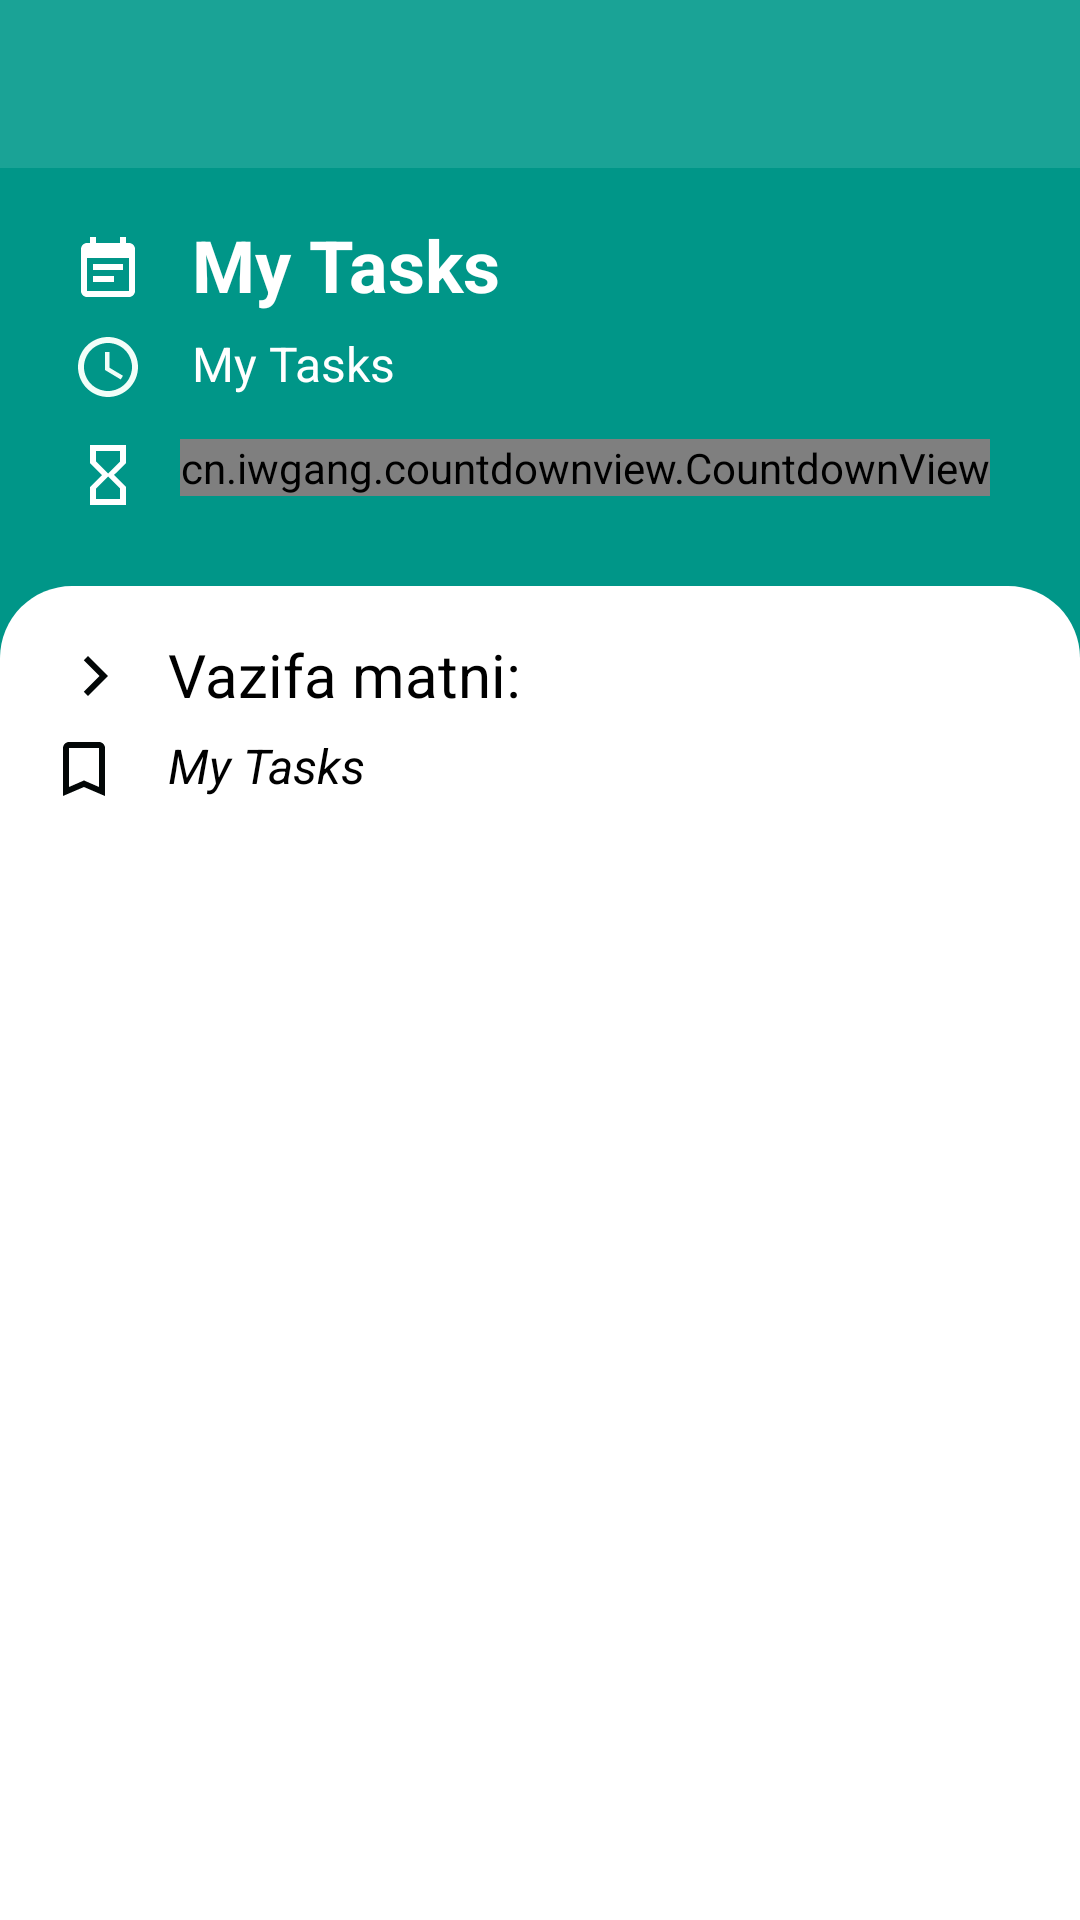

Where icons sit on this 1080×1920 app screen, as [x1,y1,x2,y2]:
arrow forward: [84,656,108,696]
bookmark border: [63,742,105,796]
event note: [81,237,135,297]
hourglass: [90,445,126,505]
time: [78,337,138,397]
